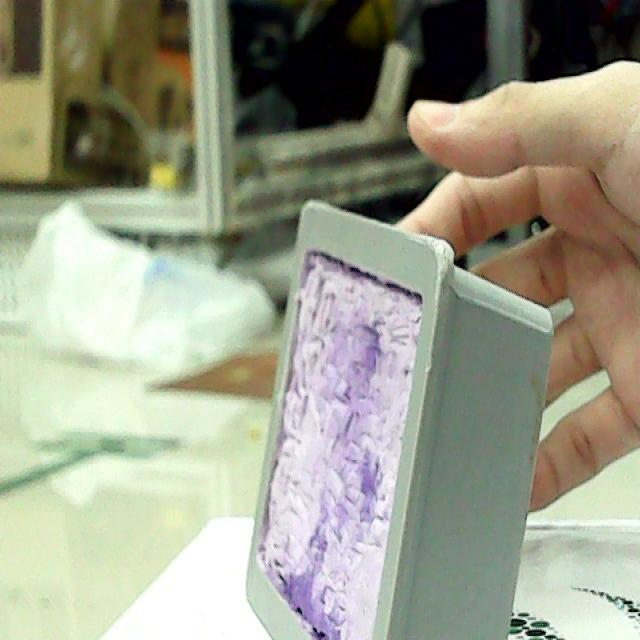block: (235, 185, 551, 640)
